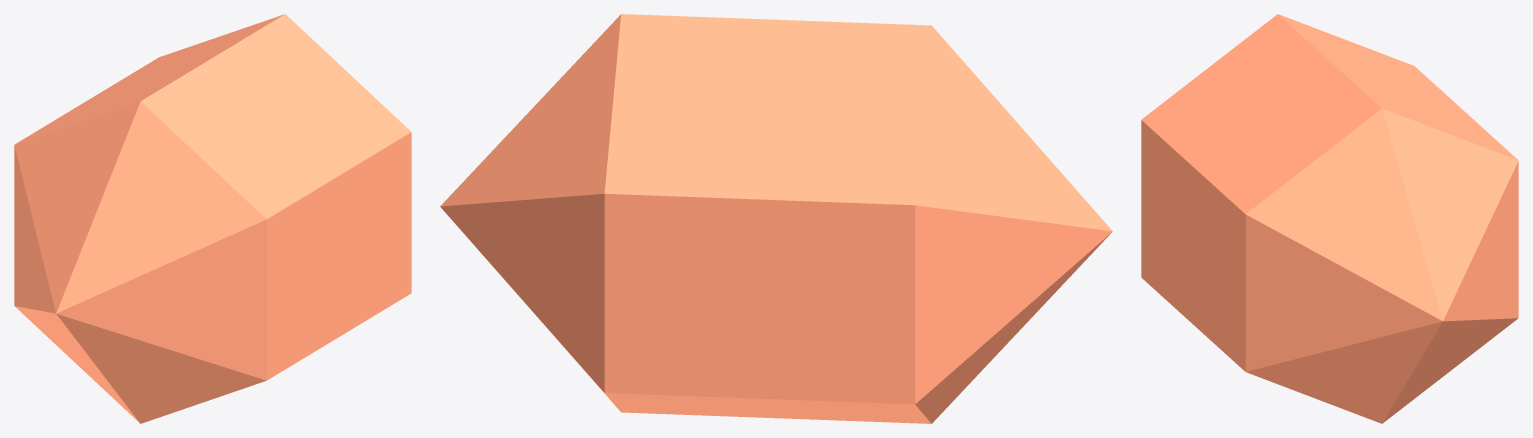
Rendered from gem_ember.glb.
The picture shows the model from 3 angles, left to right: view 1: azimuth 30°, elevation 25°; view 2: azimuth 150°, elevation 25°; view 3: azimuth 270°, elevation 25°; orthographic projection. The views are drawn at different scales.
Visible parts, largest first — view 1: model; view 2: model; view 3: model.
Part boxes in pixels (left/top/right/bottom): model: left=14, top=14, right=411, bottom=423; model: left=440, top=14, right=1112, bottom=423; model: left=1141, top=14, right=1518, bottom=423.
Bounding box in the file's own units: 0.1532 × 0.11 × 0.1193.
